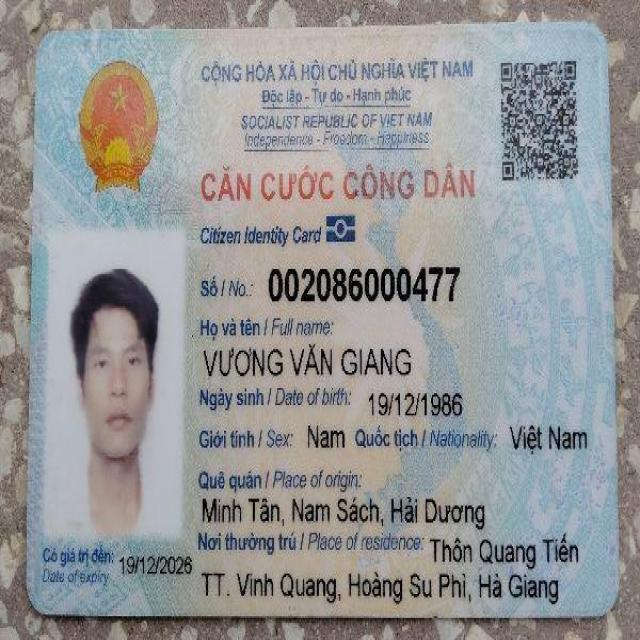current_place: (196, 567, 564, 604), (428, 534, 579, 567)
dob: (365, 384, 465, 423)
expire_date: (116, 546, 195, 579)
gender: (303, 420, 347, 448)
id: (270, 262, 464, 306)
name: (201, 340, 420, 380)
nationality: (502, 409, 589, 457)
origin_place: (199, 494, 488, 531)
